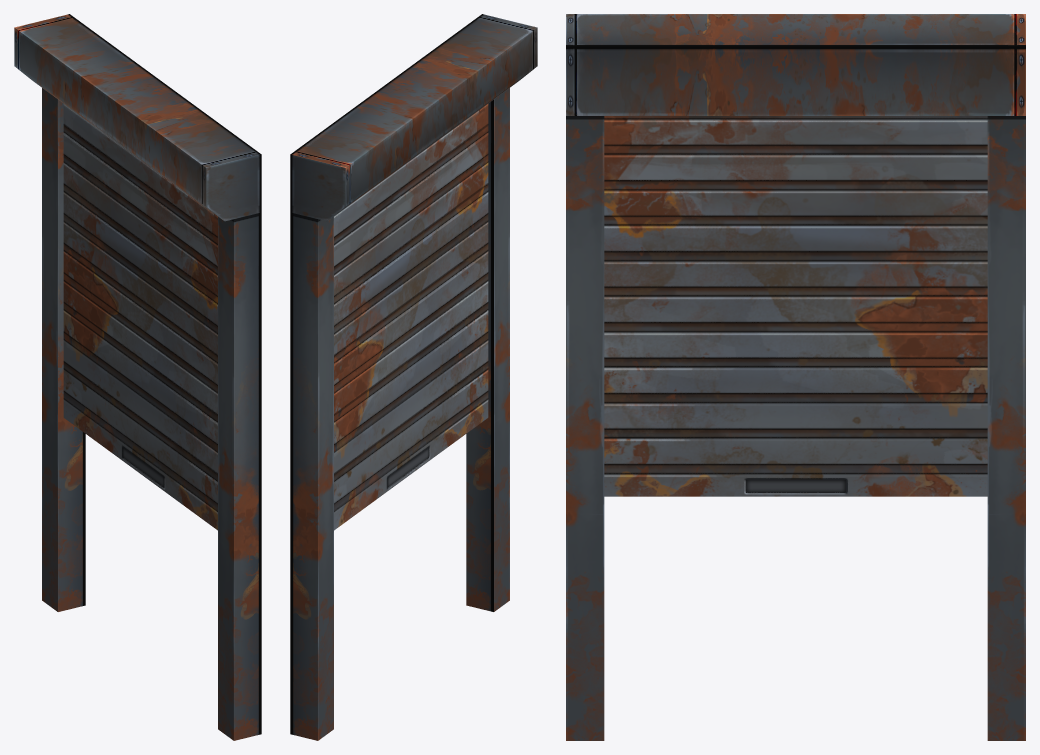
File: rollerShutter03_2m.fbx
3 views of the same model, side by side, from view 1: azimuth 30°, elevation 25°; view 2: azimuth 150°, elevation 25°; view 3: azimuth 270°, elevation 25° (orthographic). The views are drawn at different scales.
Parts seen in each view (by area): view 1: rollerShutter03_2m; view 2: rollerShutter03_2m; view 3: rollerShutter03_2m.
Boxes of the visible parts, x1,y1,x2,y2 form: rollerShutter03_2m: (14,14,261,740); rollerShutter03_2m: (290,14,537,740); rollerShutter03_2m: (566,14,1025,740).
Size of the model in its own units: 30 by 300 by 180.
